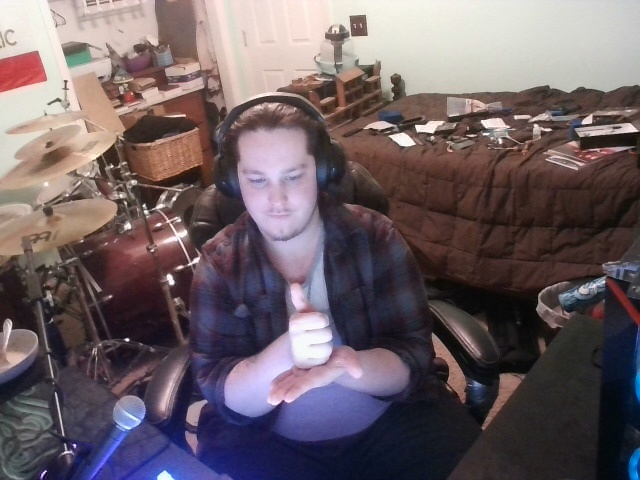help: (235, 272, 375, 422)
